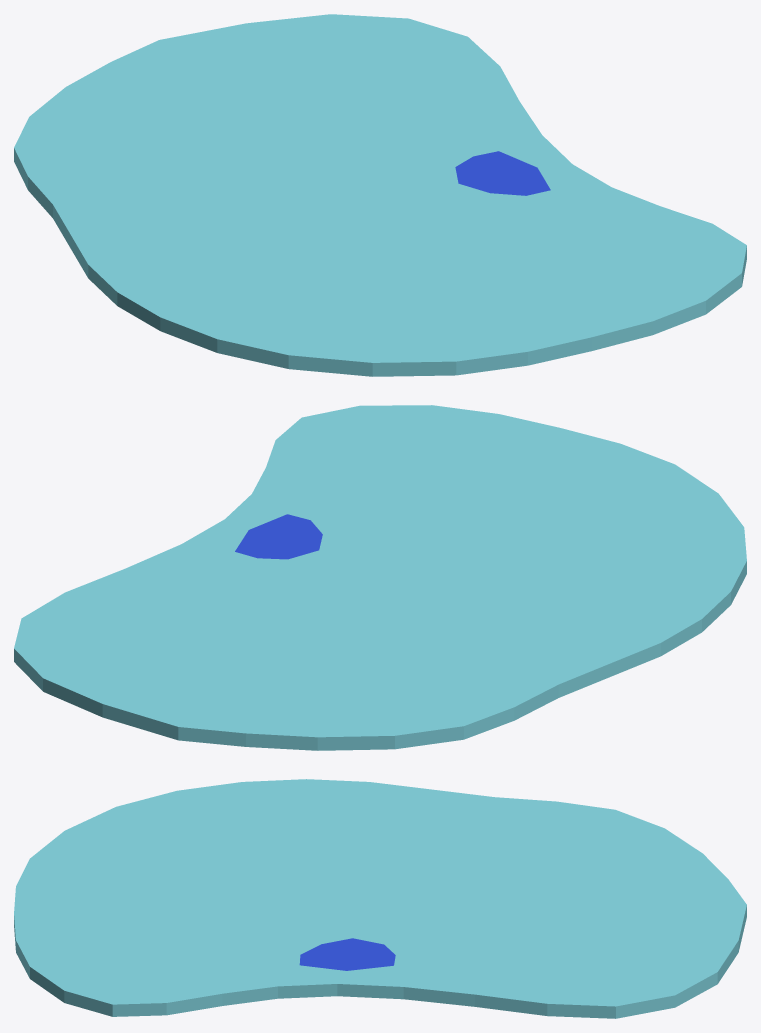
File: new puddle low poly.fbx
3 views of the same model, one above another, from view 1: azimuth 30°, elevation 25°; view 2: azimuth 150°, elevation 25°; view 3: azimuth 270°, elevation 25° (orthographic). The views are drawn at different scales.
Visible parts, largest first — view 1: Cube.002; view 2: Cube.002; view 3: Cube.002.
Boxes of the visible parts, x1,y1,x2,y2 form: Cube.002: (14,14,746,376); Cube.002: (14,405,746,750); Cube.002: (14,779,746,1018).
Bounding box in the file's own units: 210 × 5.31 × 286.
